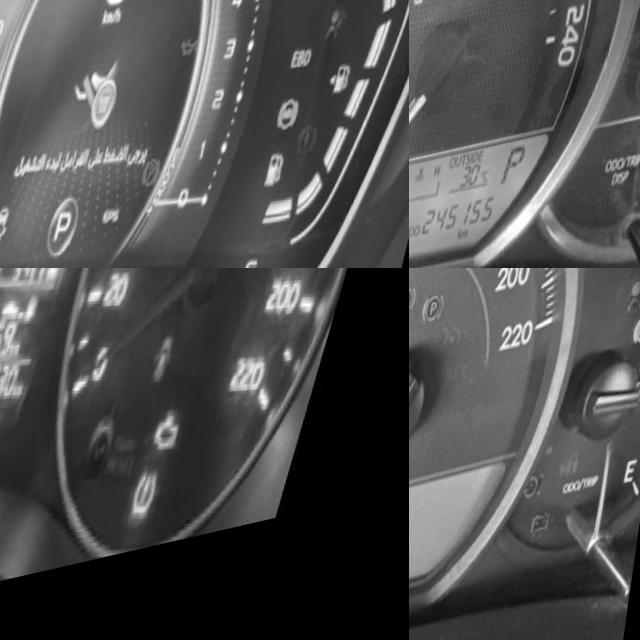Doors: (157, 349, 194, 415)
Electronic Power Steering: (531, 494, 565, 537), (409, 18, 417, 61)
Low fuel level: (273, 169, 300, 216)
